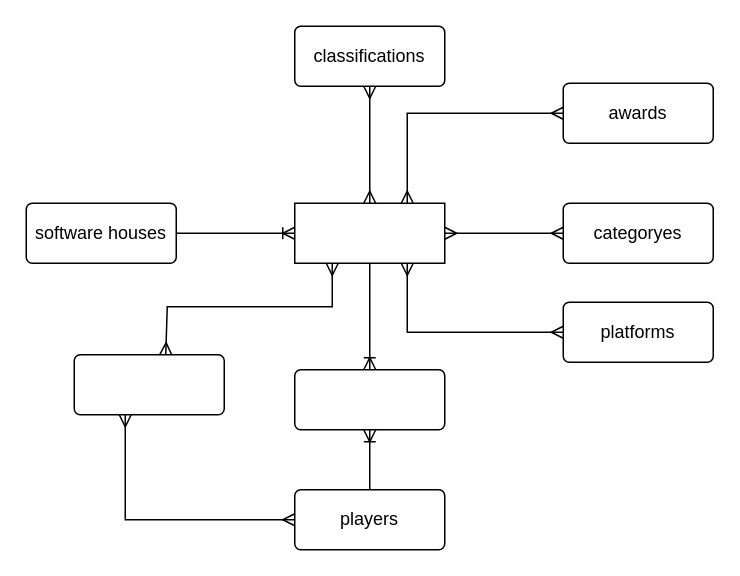
The diagram is 740 pixels wide and 576 high, and some of its shapes have lost their labels. Each missing label, with the centre of its shape:
"reviews" belongs at point 369,399.
"tourneys" belongs at point 148,384.
"videogames" belongs at point 369,232.
